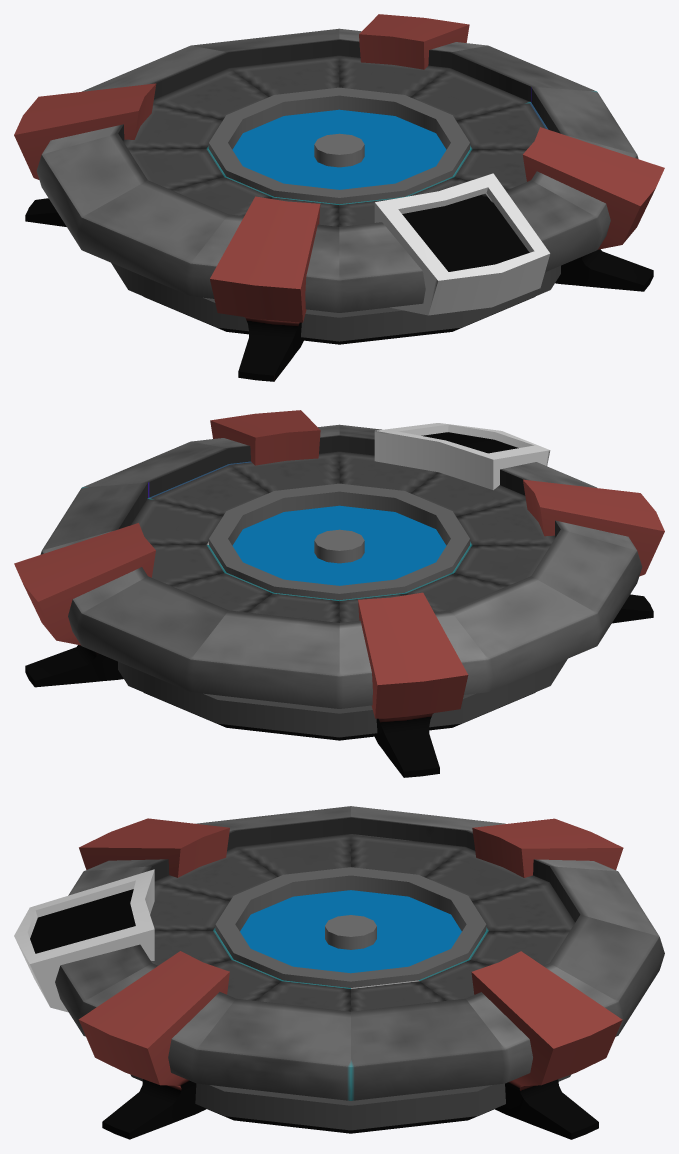
File: ConsoleTerminal.fbx
3 renders of one model, top to bottom at view 1: azimuth 30°, elevation 25°; view 2: azimuth 150°, elevation 25°; view 3: azimuth 270°, elevation 25°, orthographic. The views are drawn at different scales.
Parts seen in each view (by area): view 1: Cube.003; view 2: Cube.003; view 3: Cube.003.
Boxes of the visible parts, x1,y1,x2,y2 form: Cube.003: (14, 14, 664, 381); Cube.003: (14, 410, 664, 777); Cube.003: (14, 806, 664, 1139).
Bounding box in the file's own units: 2 × 0.4758 × 2.07.
